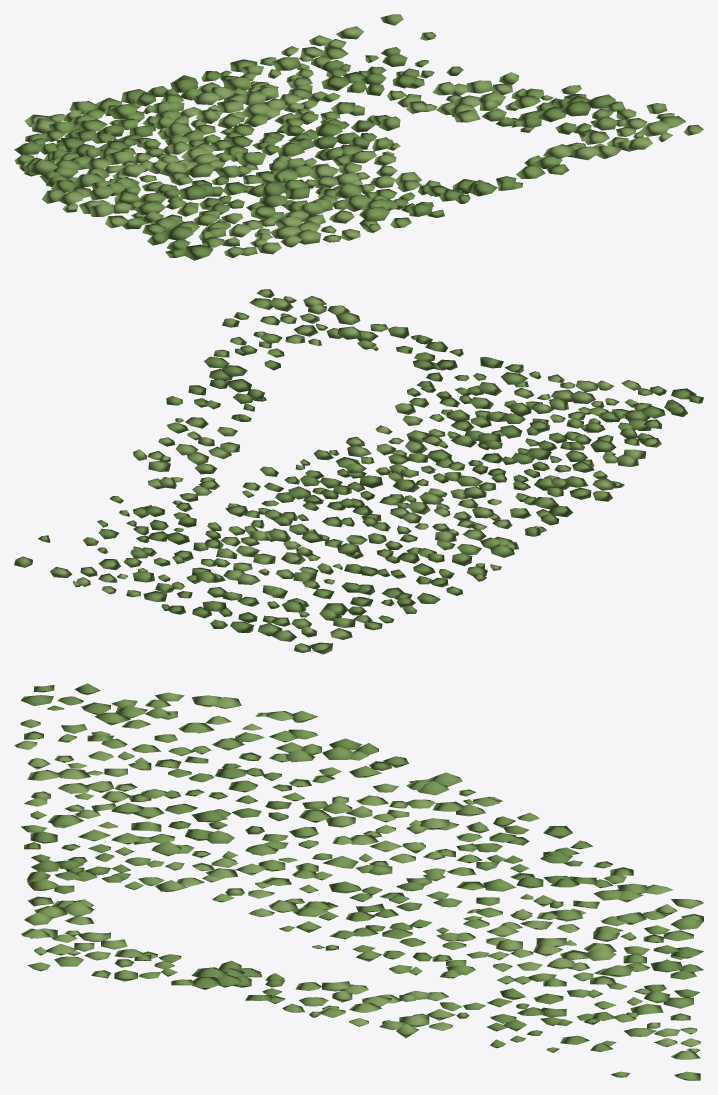
Rendered from canopy-1--1--5.glb.
3 views of the same model, one above another, from view 1: azimuth 30°, elevation 25°; view 2: azimuth 150°, elevation 25°; view 3: azimuth 270°, elevation 25° (orthographic). The views are drawn at different scales.
Size of the model in its own units: 512 by 120 by 515.
1 material, 1 textured.
